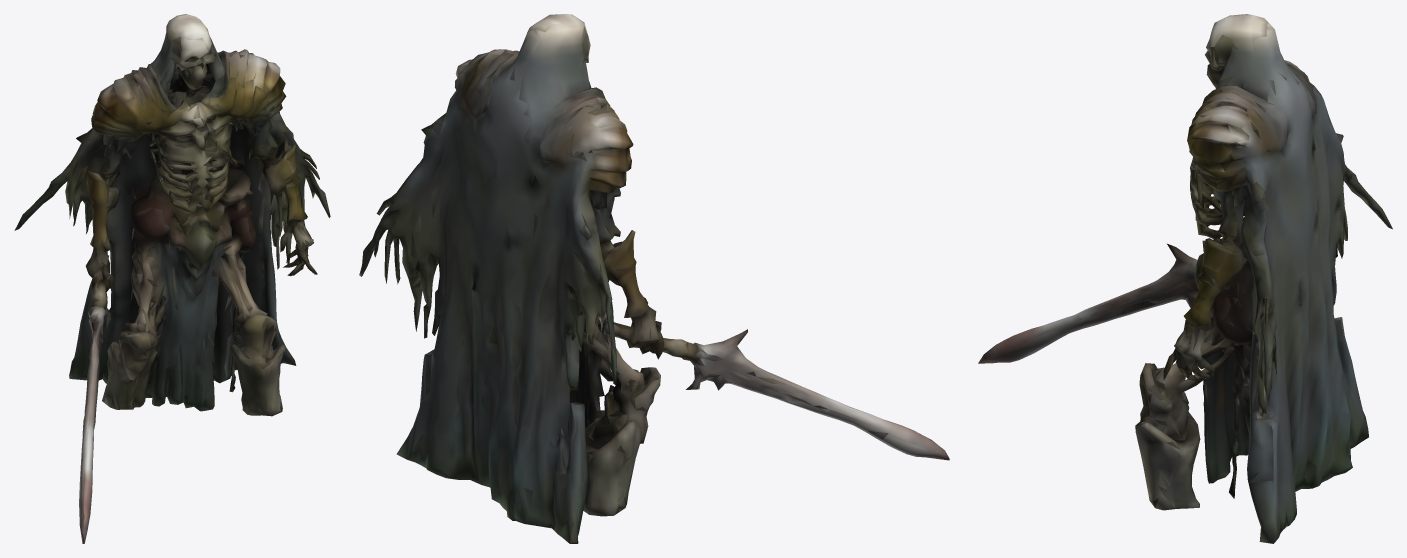
The model's file is Marsh Skeleton_final.glb.
The picture shows the model from 3 angles, left to right: view 1: azimuth 30°, elevation 25°; view 2: azimuth 150°, elevation 25°; view 3: azimuth 270°, elevation 25°; orthographic projection. The views are drawn at different scales.
Parts seen in each view (by area): view 1: Mesh1.0; view 2: Mesh1.0; view 3: Mesh1.0.
Part boxes in pixels (x1,y1,x2,y2): Mesh1.0: (14, 14, 330, 543); Mesh1.0: (359, 14, 949, 543); Mesh1.0: (978, 14, 1392, 543).
Size of the model in its own units: 1.96 by 2 by 1.59.
1 material, 1 textured.
